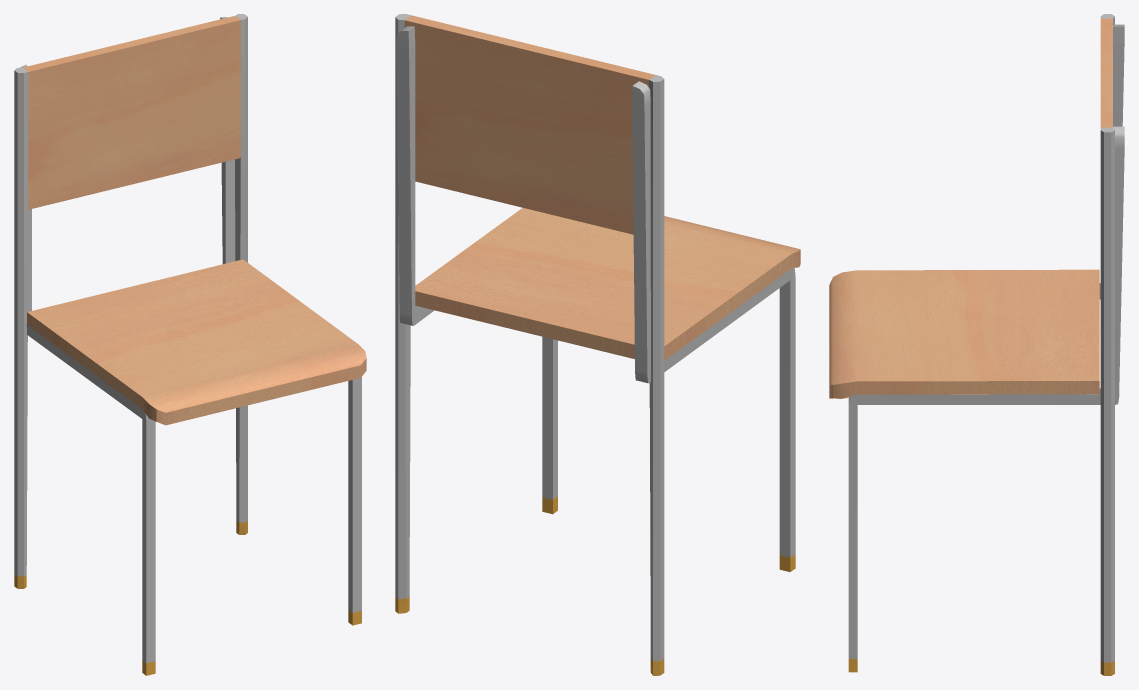
Rendered from Chair.fbx.
3 renders of one model, left to right at view 1: azimuth 30°, elevation 25°; view 2: azimuth 150°, elevation 25°; view 3: azimuth 270°, elevation 25°, orthographic. The views are drawn at different scales.
Visible parts, largest first — view 1: Chair; view 2: Chair; view 3: Chair.
Boxes of the visible parts, x1=… form: Chair: x1=14, y1=14, x2=366, y2=675; Chair: x1=395, y1=14, x2=800, y2=675; Chair: x1=829, y1=14, x2=1124, y2=675.
Bounding box in the file's own units: 38.33 × 82.1 × 40.43.
Materials: 1 (1 with a texture image).
